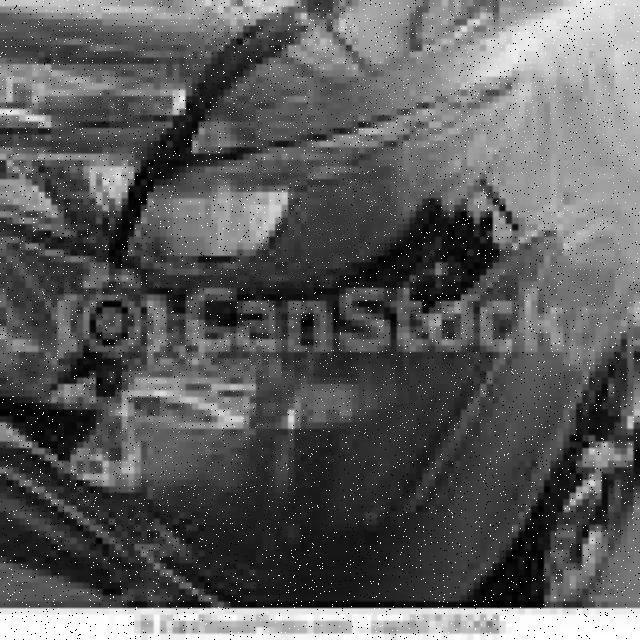rear-bumper-dent: (1, 205, 634, 589)
